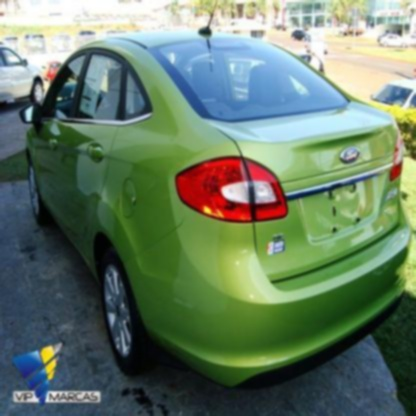Vehicle: (19, 28, 412, 391)
